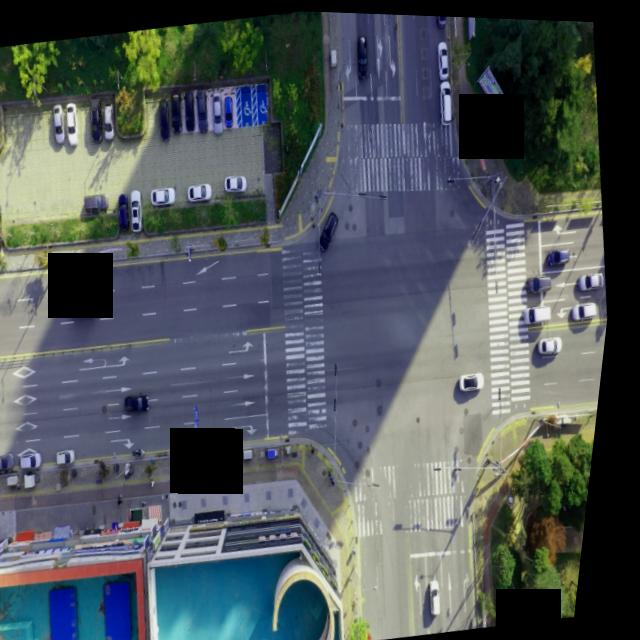car: (316, 204, 345, 249), (436, 76, 459, 122), (209, 88, 230, 133), (128, 187, 149, 228), (353, 32, 373, 75), (195, 86, 215, 129), (157, 97, 176, 140), (167, 89, 186, 131), (182, 88, 201, 128), (65, 102, 83, 144), (118, 192, 137, 229), (435, 36, 453, 75), (89, 102, 107, 141), (463, 364, 492, 388), (150, 182, 179, 206), (131, 387, 160, 410), (439, 574, 457, 611), (52, 104, 69, 143), (529, 296, 559, 318), (541, 328, 571, 349), (575, 293, 603, 315), (0, 450, 27, 472), (190, 179, 218, 200), (528, 267, 557, 287), (222, 92, 239, 126), (101, 101, 117, 137), (583, 264, 610, 284), (87, 191, 112, 212), (27, 448, 52, 468), (227, 171, 251, 191), (551, 241, 574, 261), (66, 446, 87, 464), (0, 212, 9, 249), (432, 13, 448, 20)
small_truck: (76, 293, 106, 315)
